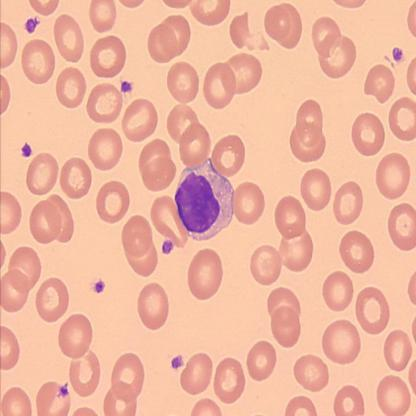Lymphocyte: (174, 158, 234, 242)
